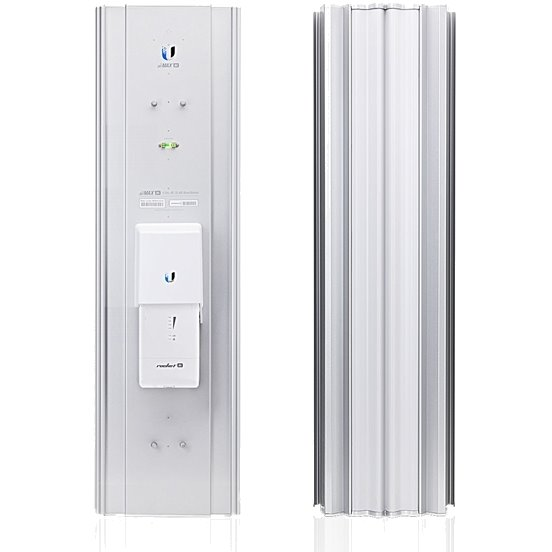sa: (66, 4, 253, 525), (306, 8, 466, 522)
